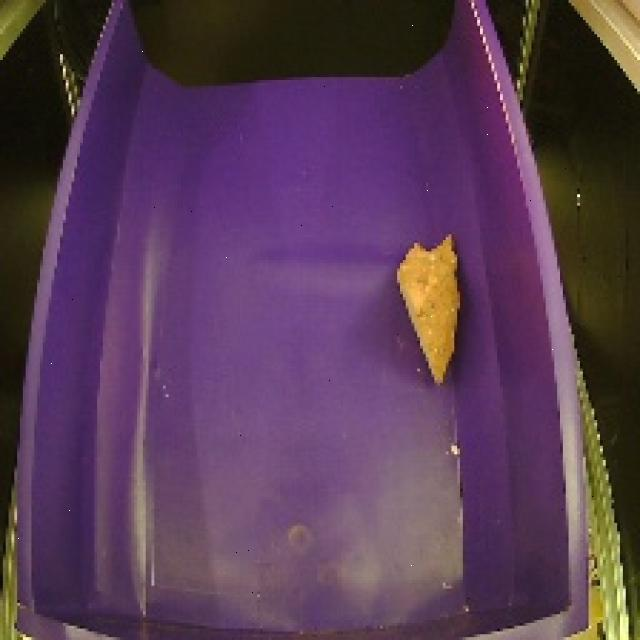brick: (384, 226, 472, 391)
